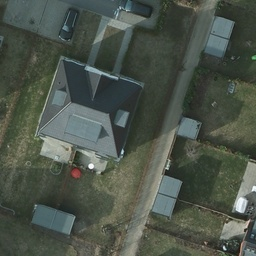car: (59, 9, 78, 44)
van: (119, 0, 152, 18)
